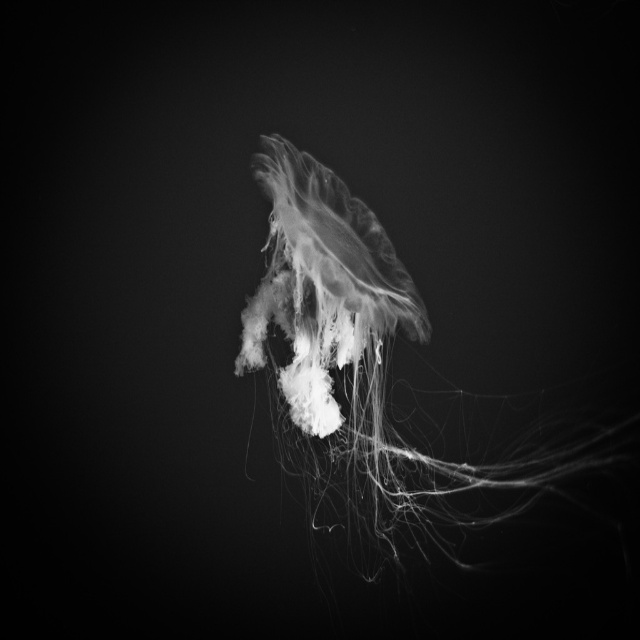Jellyfish: (234, 130, 640, 605)
